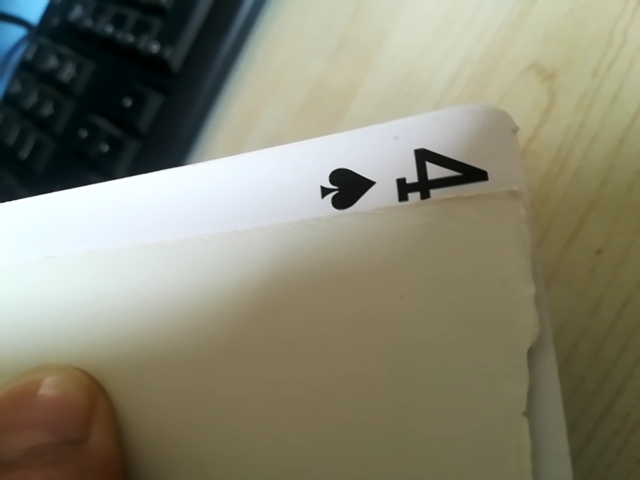ht 4: (289, 123, 509, 234)
